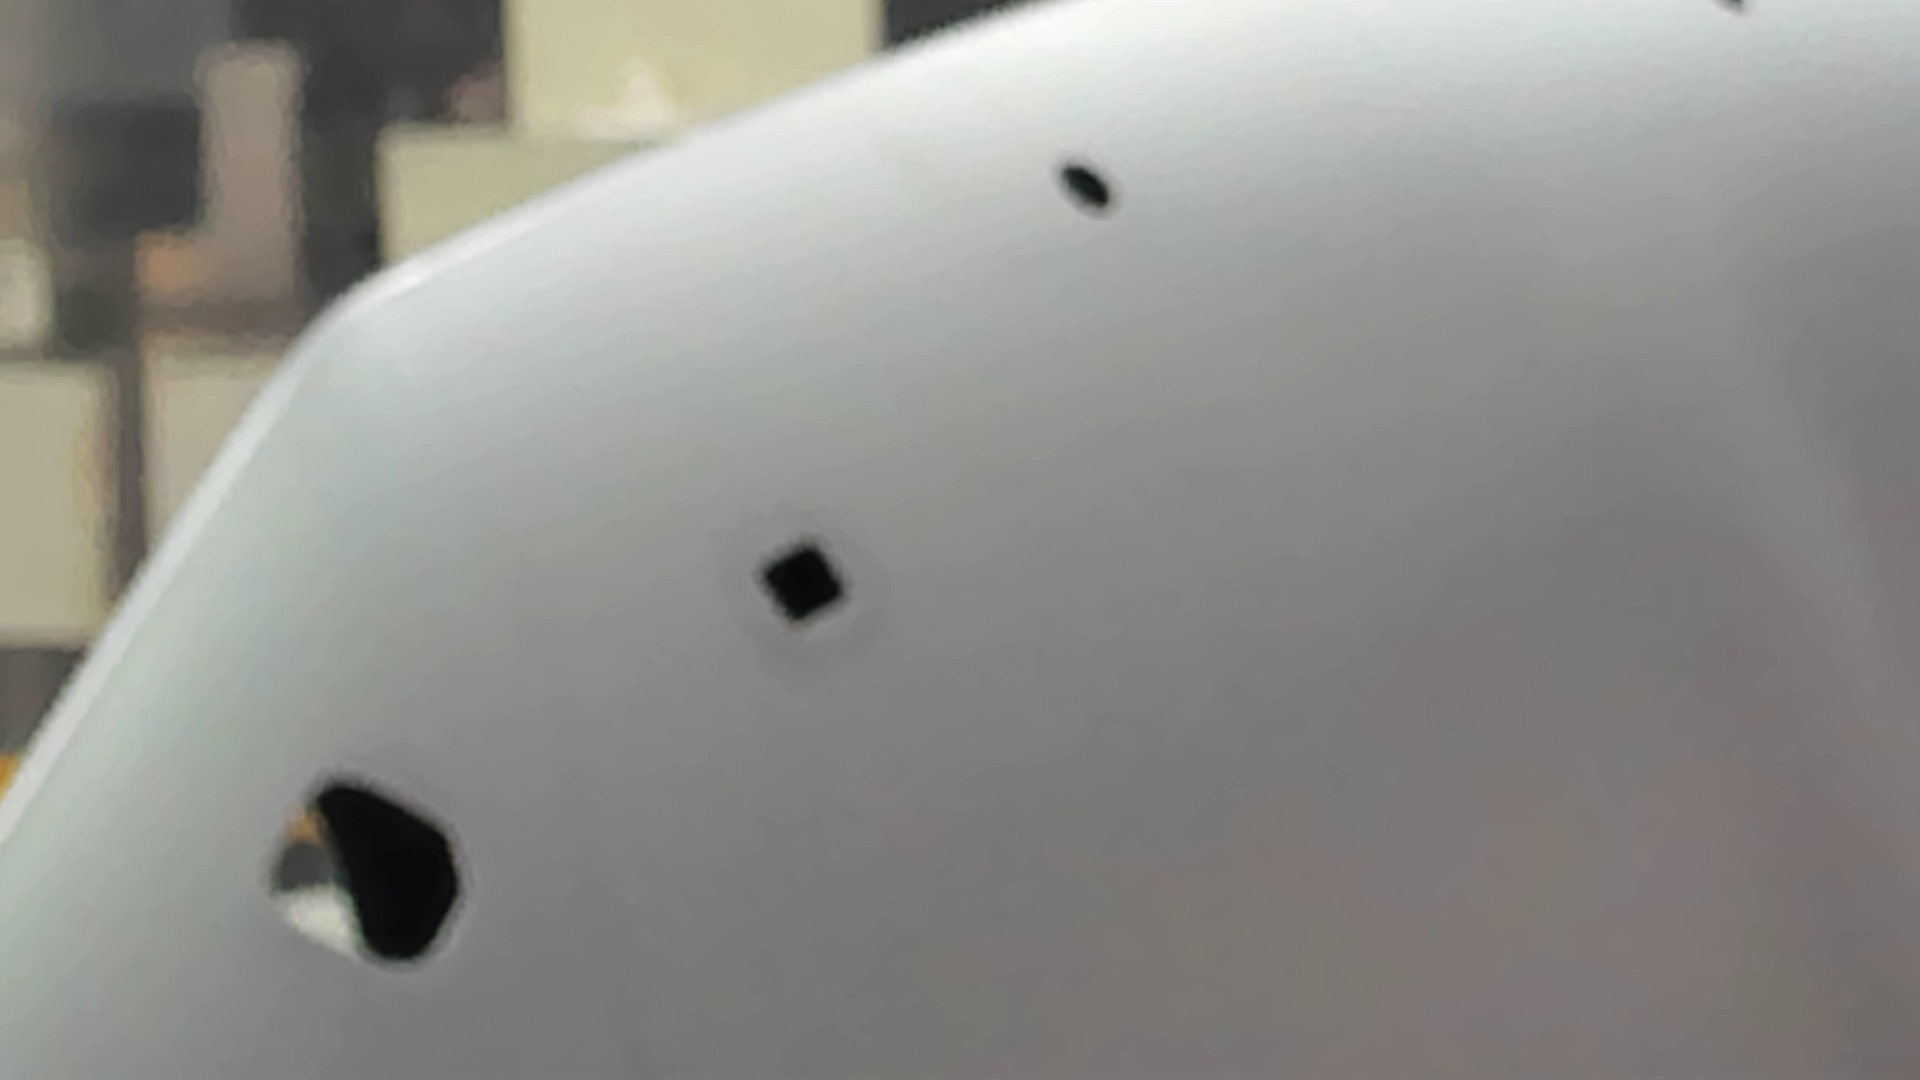chico: (1051, 156, 1120, 223)
grande: (248, 771, 471, 976)
mediano: (742, 529, 852, 636)
